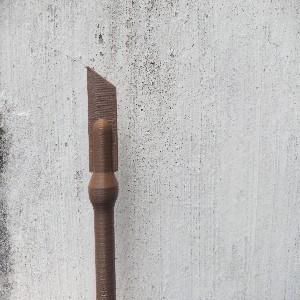cutter: (85, 66, 120, 300)
